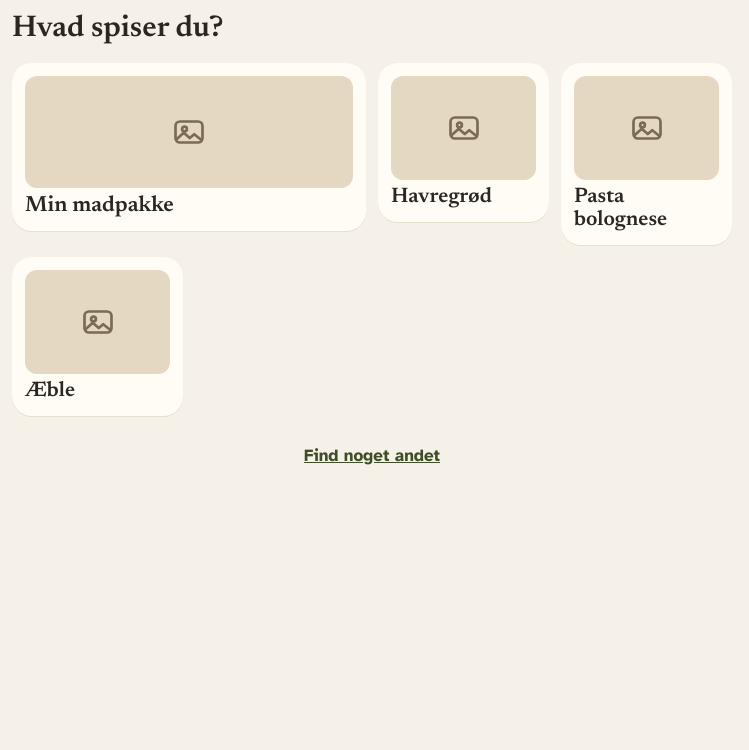
Test: Hvad spiser du? (Log-Simpel, simpleMode) › selects on tap (accent border and check) and shows '{name} · 42 g kulhydrat · Ja, det spiser jeg'
Click the button "Min madpakke".
click(189, 147)  # box [12,62,366,231]
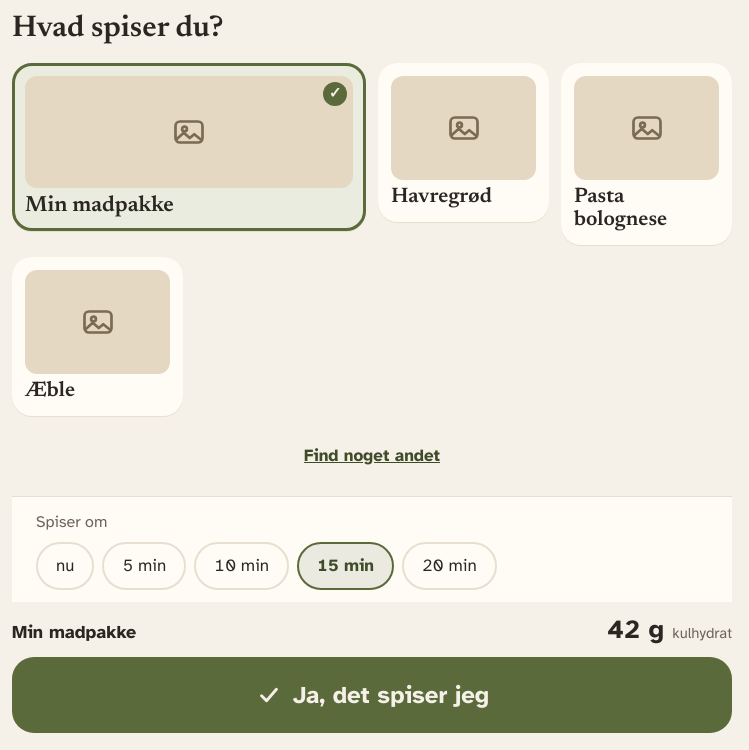
Result: the text "✓" is shown at [323,82,347,106]
Result: the element with test id "total-bar" shows "Min madpakke" at [12,621,136,643]
Result: the element with test id "total-bar" shows "42 g kulhydrat" at [12,602,732,733]
